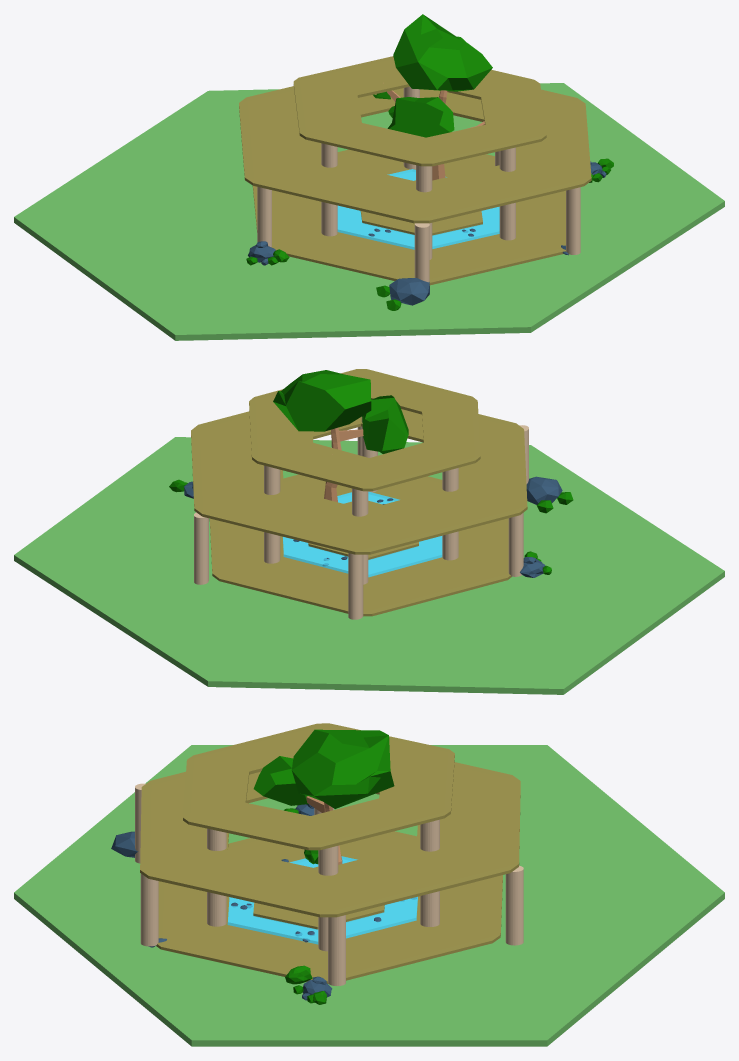
Rendered from Agora.fbx.
3 views of the same model, one above another, from view 1: azimuth 30°, elevation 25°; view 2: azimuth 150°, elevation 25°; view 3: azimuth 270°, elevation 25° (orthographic). The views are drawn at different scales.
Parts seen in each view (by area): view 1: Cylindre.006, Cylindre.004, Cylindre.005, Cylindre.003, Icokugel.003, Cylindre.002, Icokugel.002, Cylindre.001, Icokugel.022, pilier.009, pilier.012, pilier.015 (+4 smaller); view 2: Cylindre.006, Cylindre.004, Cylindre.003, Cylindre.005, Icokugel.003, Cylindre.002, Icokugel.002, Icokugel.022, pilier.007, pilier.008, pilier.013, pilier.011 (+5 smaller); view 3: Cylindre.006, Cylindre.004, Cylindre.003, Cylindre.005, Icokugel.003, Cylindre.002, Icokugel.002, pilier.008, pilier.009, pilier.013, pilier.010, Cylindre.001 (+3 smaller).
Boxes of the visible parts, box(x1,y1,x2,y2) form: Cylindre.006: box(14, 83, 724, 340); Cylindre.004: box(239, 86, 591, 223); Cylindre.005: box(293, 56, 546, 166); Cylindre.003: box(252, 149, 565, 285); Icokugel.003: box(393, 14, 492, 91); Cylindre.002: box(337, 169, 499, 249); Icokugel.002: box(387, 97, 454, 137); Cylindre.001: box(360, 180, 482, 235); Icokugel.022: box(376, 278, 429, 310); pilier.009: box(566, 187, 580, 254); pilier.012: box(499, 147, 515, 240); pilier.015: box(321, 143, 337, 236); Cylindre.006: box(14, 437, 724, 694); Cylindre.004: box(191, 409, 527, 554); Cylindre.003: box(209, 474, 511, 616); Cylindre.005: box(249, 369, 480, 491); Icokugel.003: box(273, 370, 371, 431); Cylindre.002: box(282, 491, 442, 577); Icokugel.002: box(362, 395, 408, 453); Icokugel.022: box(526, 476, 573, 513); pilier.007: box(348, 553, 363, 619); pilier.008: box(194, 512, 208, 584); pilier.013: box(264, 465, 280, 563); pilier.011: box(508, 513, 523, 576); Cylindre.006: box(14, 745, 724, 1046); Cylindre.004: box(140, 762, 520, 917); Cylindre.003: box(156, 831, 502, 983); Cylindre.005: box(183, 723, 454, 850); Icokugel.003: box(291, 729, 394, 808); Cylindre.002: box(227, 856, 417, 944); Icokugel.002: box(253, 756, 321, 805); pilier.008: box(505, 865, 523, 945); pilier.009: box(140, 873, 158, 946); pilier.013: box(420, 819, 439, 926); pilier.010: box(328, 915, 345, 985); Cylindre.001: box(253, 866, 384, 929).
Bounding box in the file's own units: 1977 × 615 × 2011.
